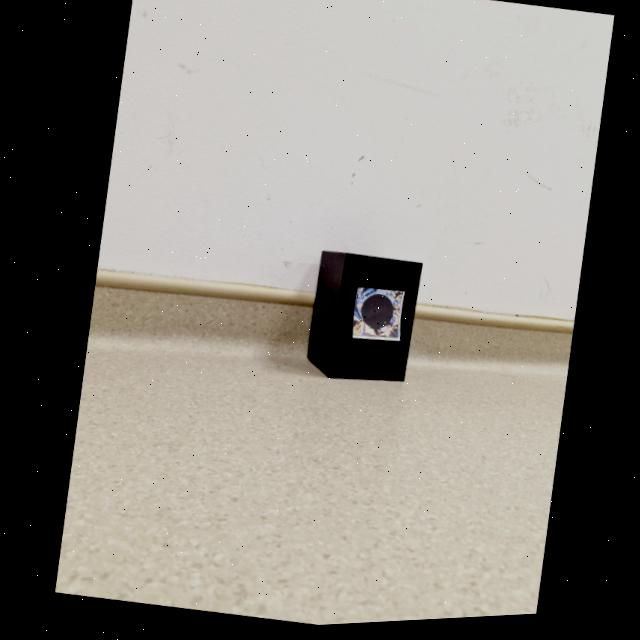CIRCLE: (357, 299, 390, 332)
